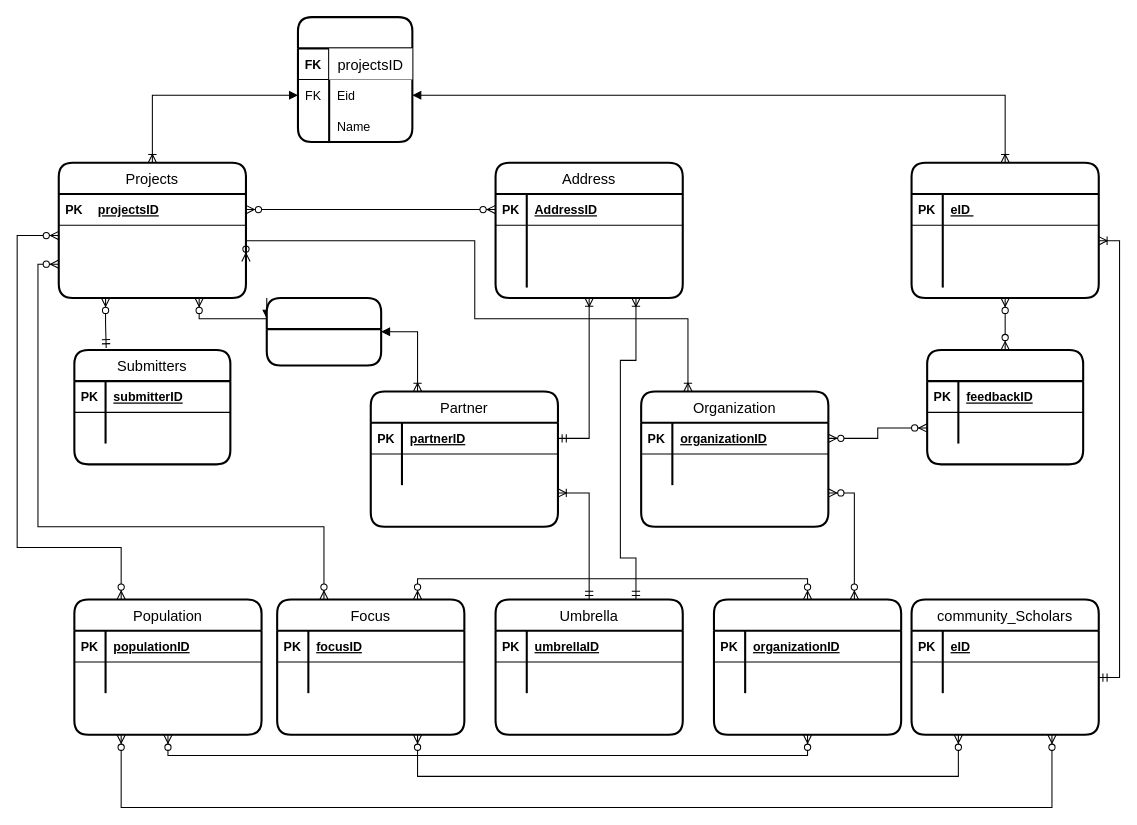
Some shapes in this 1137 by 825 pixel diagram are drawn without their labels. The shapes that lost their labels are listed below. From the top down, each one's box as (x1, y1, x2, y2) in pixels, then its label:
(296, 16, 413, 142): facultyProject
(910, 161, 1099, 298): Faculty
(265, 296, 382, 366): partnerProject
(926, 348, 1084, 465): user_Feedback
(712, 598, 902, 735): center_Units
